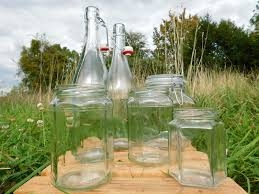glass: (48, 80, 117, 194), (72, 2, 114, 164), (165, 105, 236, 190), (104, 21, 143, 152), (124, 83, 177, 166)
